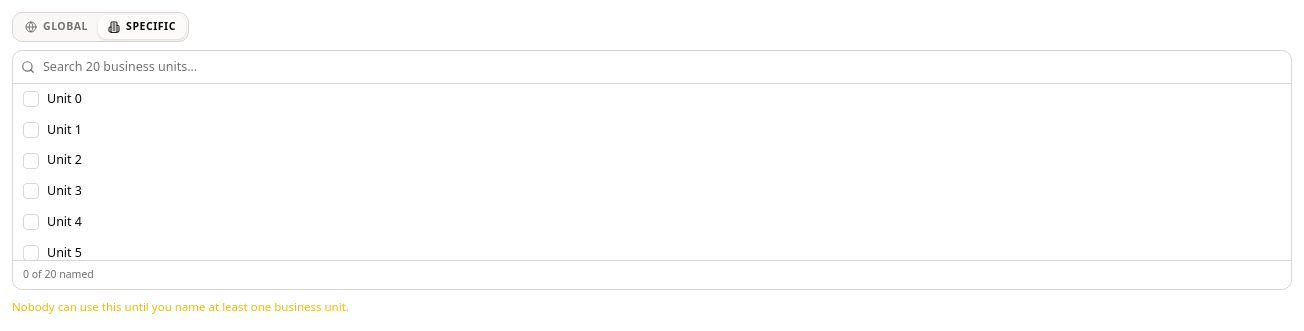
Test: naming which units a grant reaches › filters to matches as you type, so cost of use is flat in tenant size
Type "Unit 17" into the field with placeholder "Search 20 business units…".
click(663, 67); type("Unit 17")  # box left=43, top=51, right=1283, bottom=83
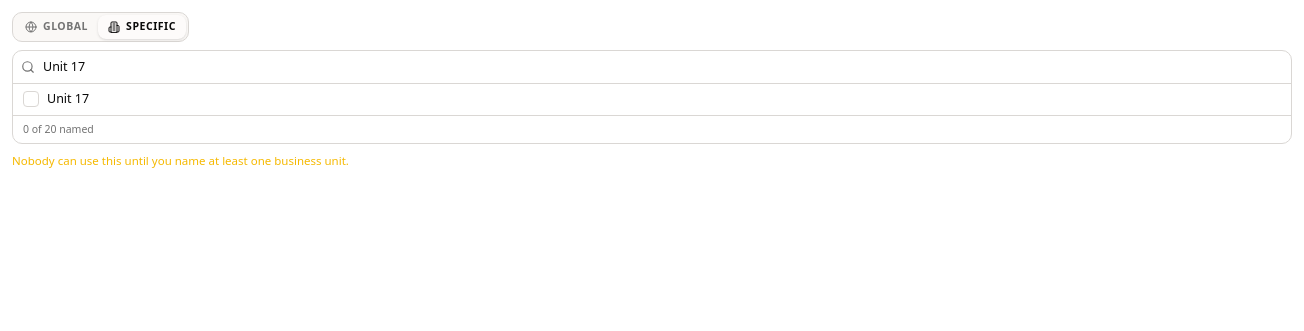
Expected: the checkbox labelled "Unit 17" is shown, left=13, top=84, right=1291, bottom=114
Expected: the checkbox labelled "Unit 3" is gone
